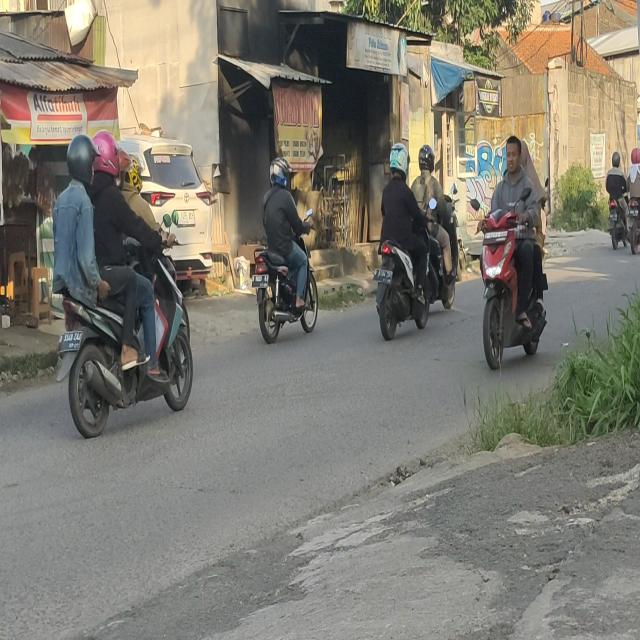helmet: (66, 136, 94, 181), (94, 130, 119, 177), (390, 144, 411, 180), (270, 158, 290, 188), (418, 145, 436, 176), (130, 153, 145, 190), (118, 148, 130, 190), (612, 150, 620, 168), (631, 147, 640, 163)
no-helmet: (505, 136, 520, 171), (520, 141, 530, 168)
